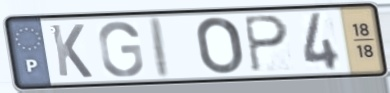4: (301, 10, 343, 73)
G: (96, 20, 146, 79)
I: (149, 15, 174, 82)
K: (48, 22, 95, 80)
O: (194, 15, 246, 76)
P: (241, 14, 291, 75)
